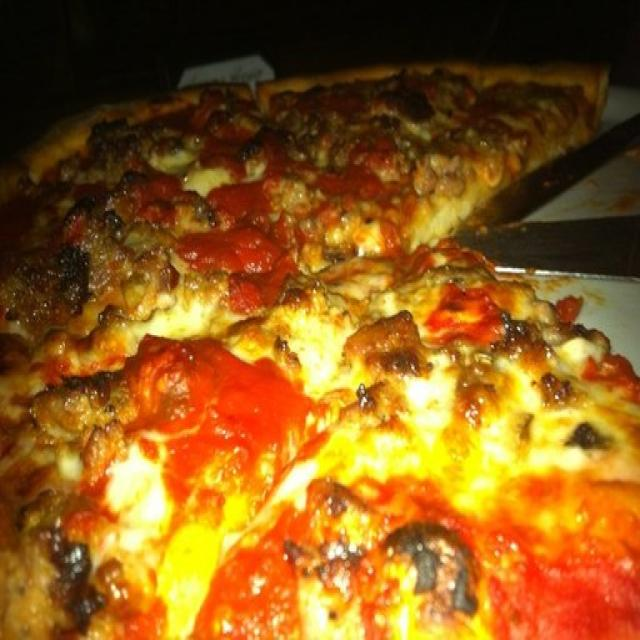Cheese: (478, 392, 576, 471), (107, 449, 175, 531), (271, 315, 344, 380), (142, 299, 218, 347), (422, 382, 451, 441)
Pizza: (0, 62, 640, 640)
